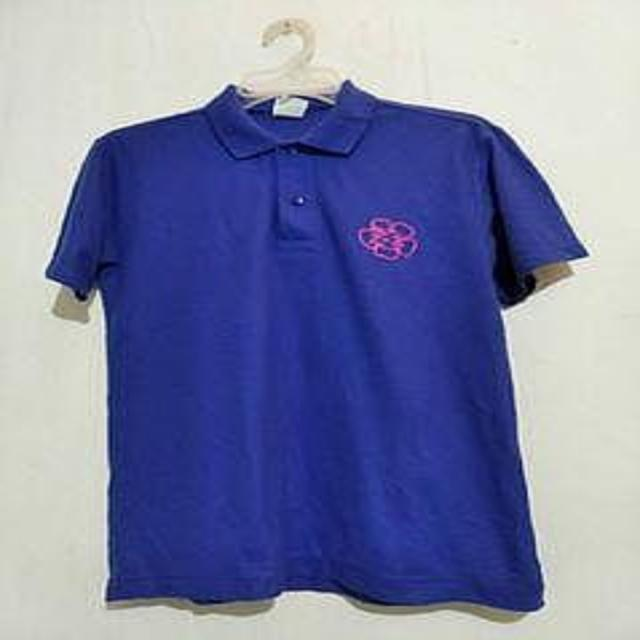T_SHIRT: (34, 70, 606, 622)
